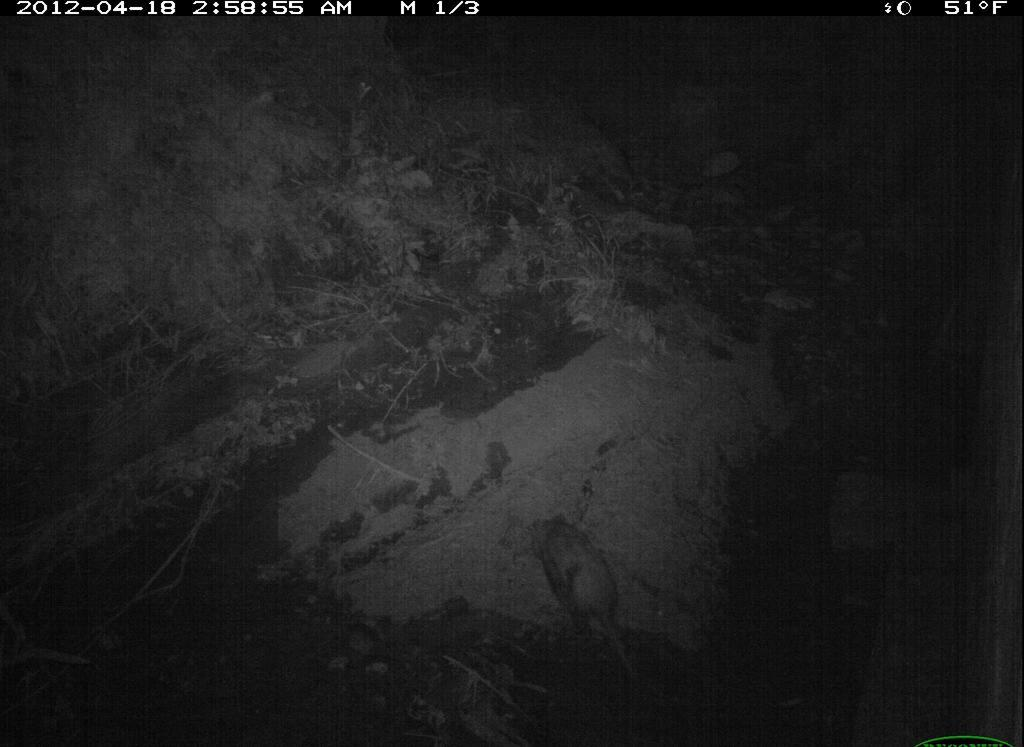opossum: (521, 497, 674, 701)
